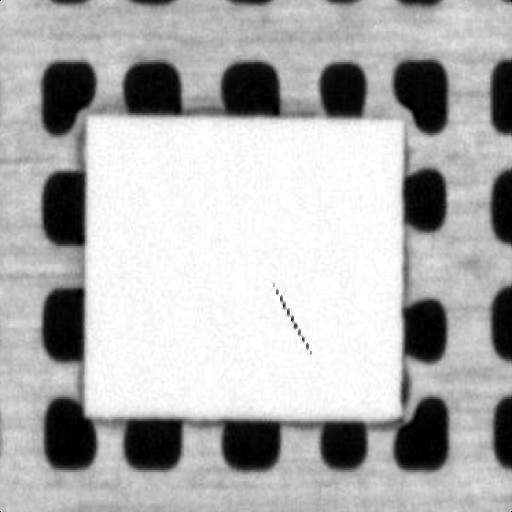DIE_INK: (270, 279, 310, 355)
